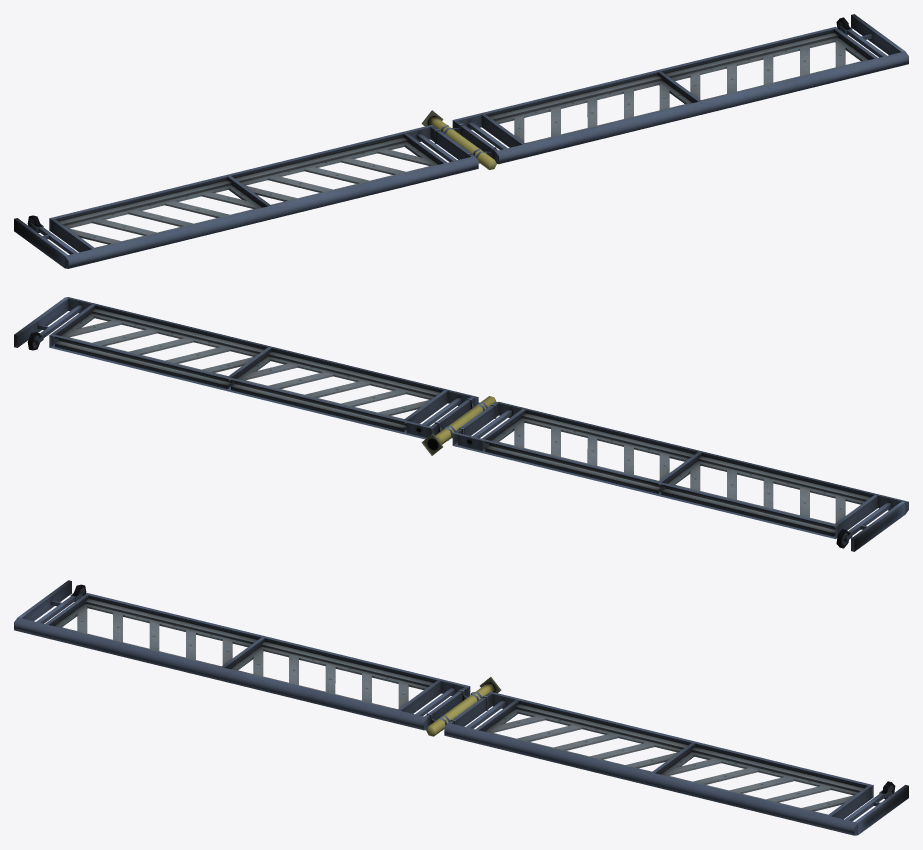
File: nt_2020_street_gate_01_LOD1.obj
The picture shows the model from 3 angles, top to bottom: view 1: azimuth 30°, elevation 25°; view 2: azimuth 150°, elevation 25°; view 3: azimuth 330°, elevation 25°; orthographic projection.
Parts seen in each view (by area): view 1: mtl_nt_2020_street_gate_01; view 2: mtl_nt_2020_street_gate_01; view 3: mtl_nt_2020_street_gate_01.
Boxes of the visible parts, x1,y1,x2,y2 form: mtl_nt_2020_street_gate_01: (14, 14, 908, 268); mtl_nt_2020_street_gate_01: (14, 297, 908, 551); mtl_nt_2020_street_gate_01: (14, 580, 908, 835).
Bounding box in the file's own units: 857 × 21.47 × 107.
